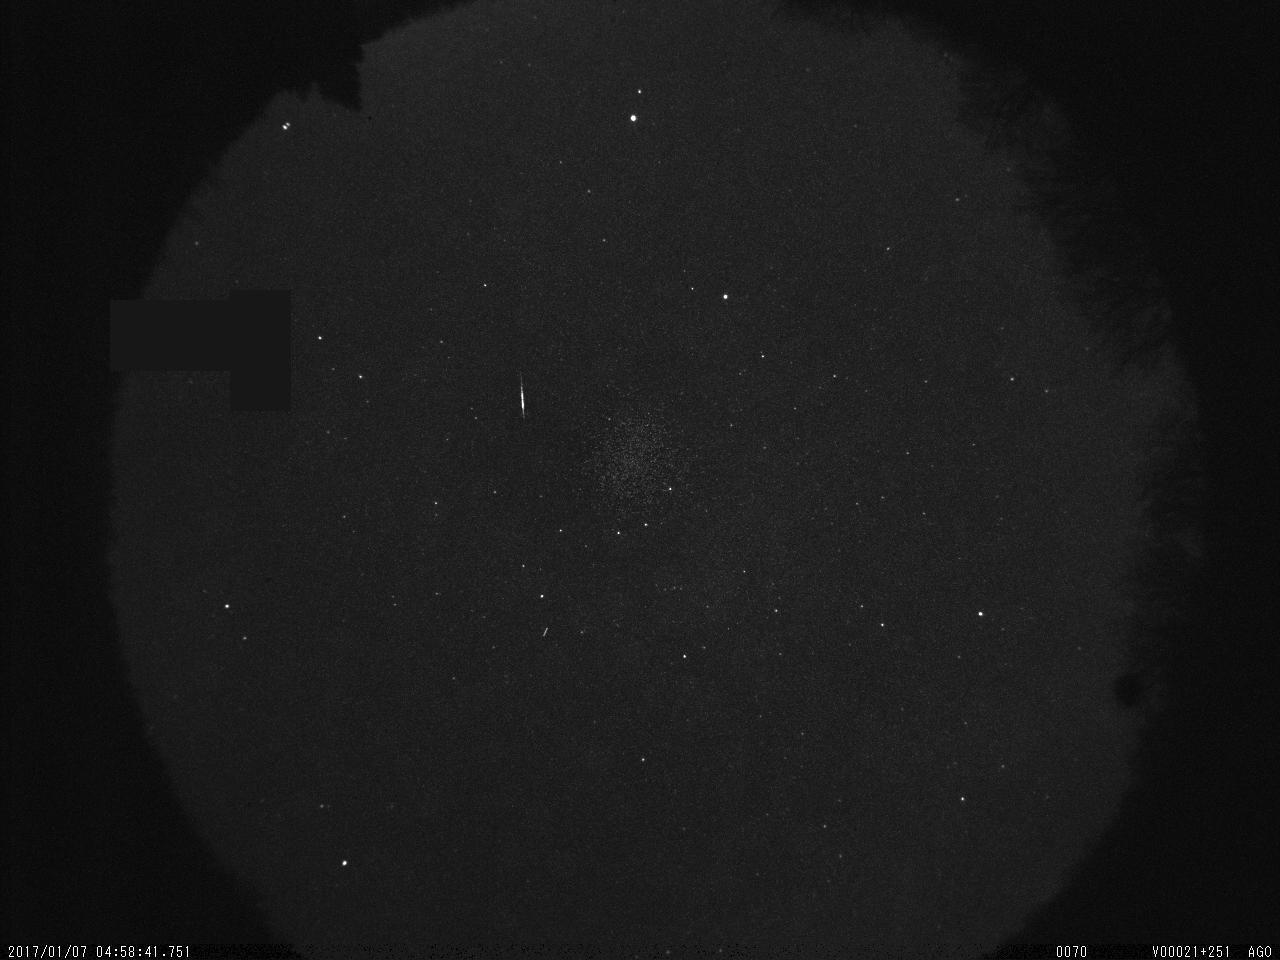meteor: (490, 361, 559, 438)
